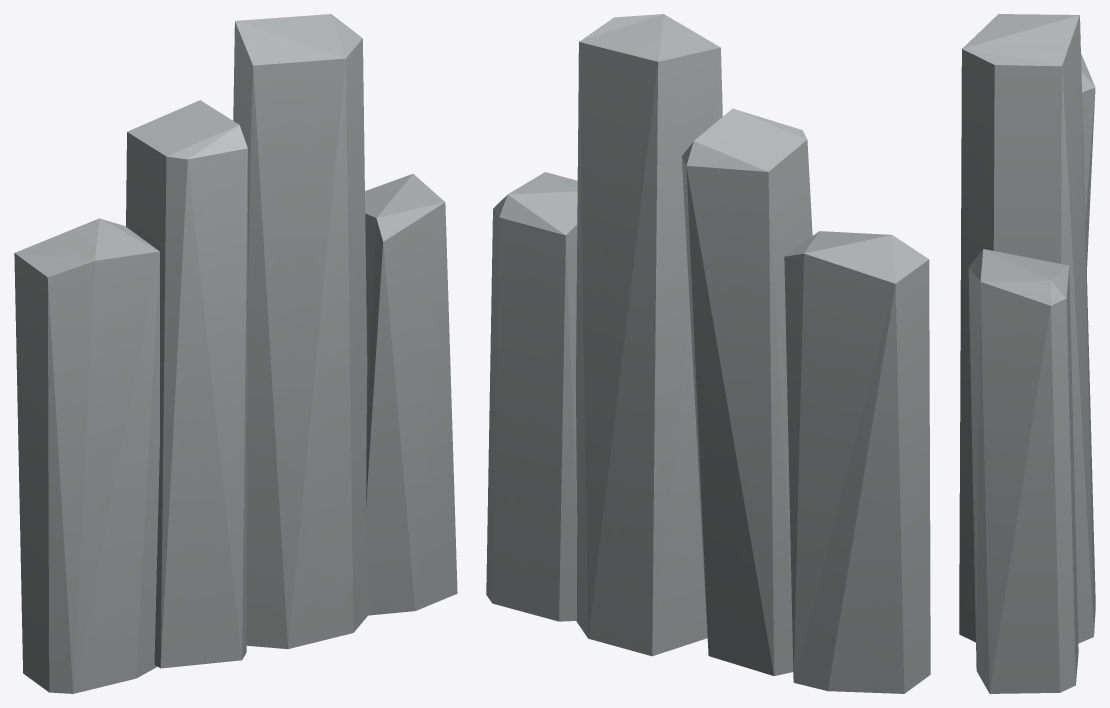
The model's file is rock_2.fbx.
3 renders of one model, left to right at view 1: azimuth 30°, elevation 25°; view 2: azimuth 150°, elevation 25°; view 3: azimuth 270°, elevation 25°, orthographic.
Visible parts, largest first — view 1: rock_2; view 2: rock_2; view 3: rock_2.
Part boxes in pixels (x1,y1,x2,y2): rock_2: (14,14,457,693); rock_2: (486,14,930,693); rock_2: (959,14,1095,693).
Bounding box in the file's own units: 3.5 × 4.82 × 1.
